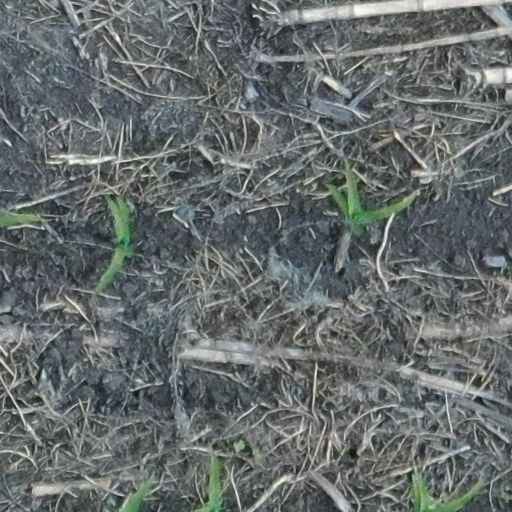planta: (321, 160, 415, 226), (95, 190, 131, 292)
